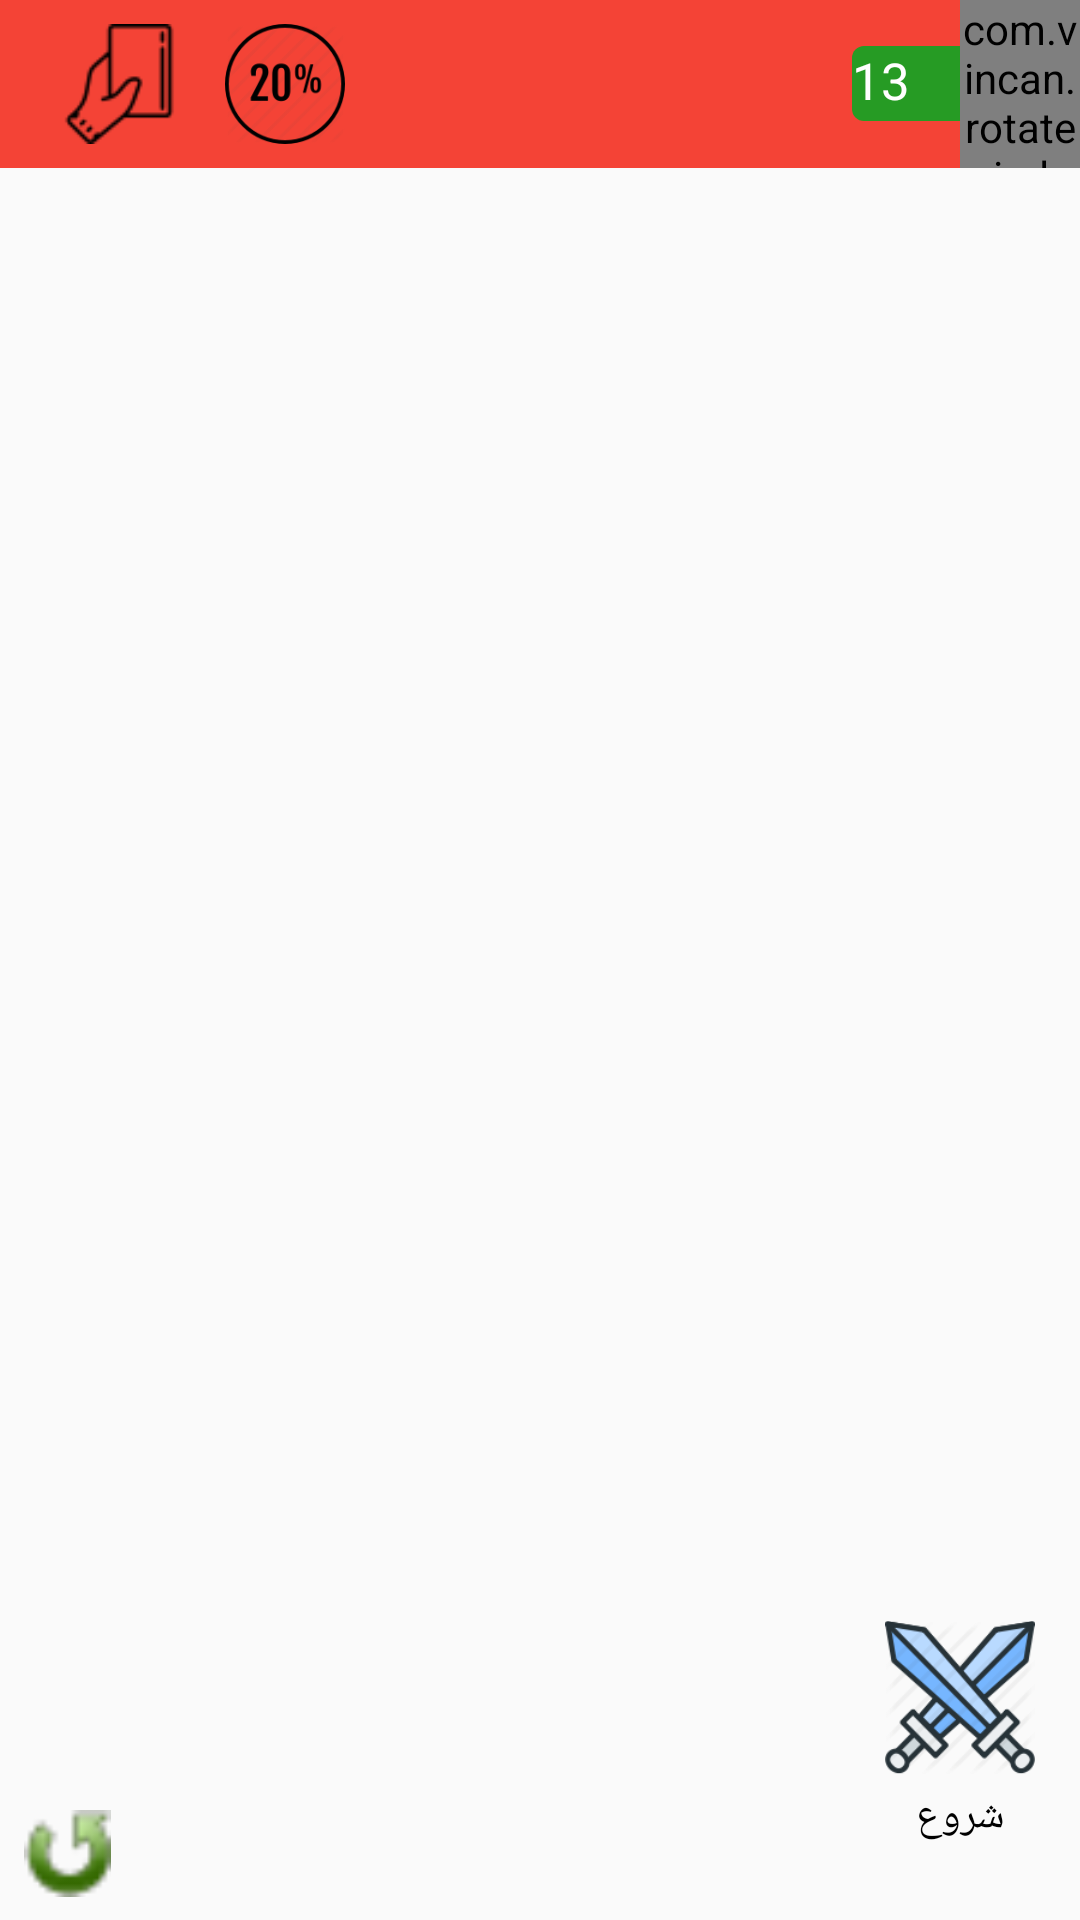

Where icons sit on this 1080w x 1920h app screen, as (x1, y1, x2, y2):
card: (65, 24, 174, 144)
refresh: (24, 1810, 111, 1897)
